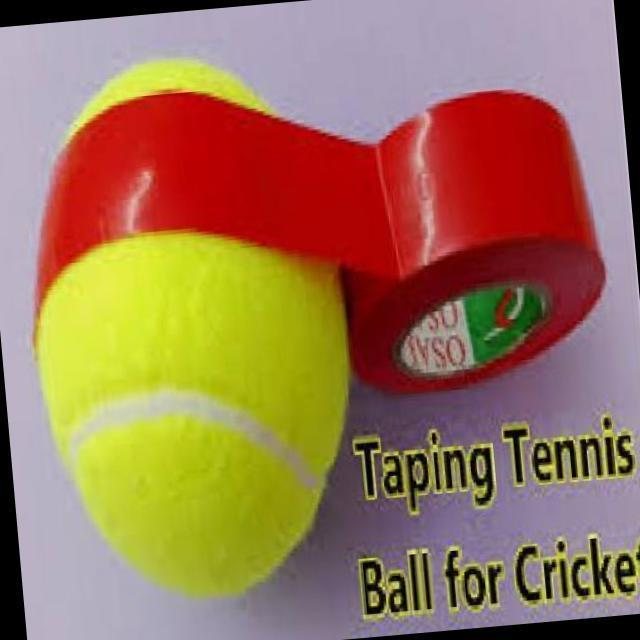-: (42, 56, 355, 599)
